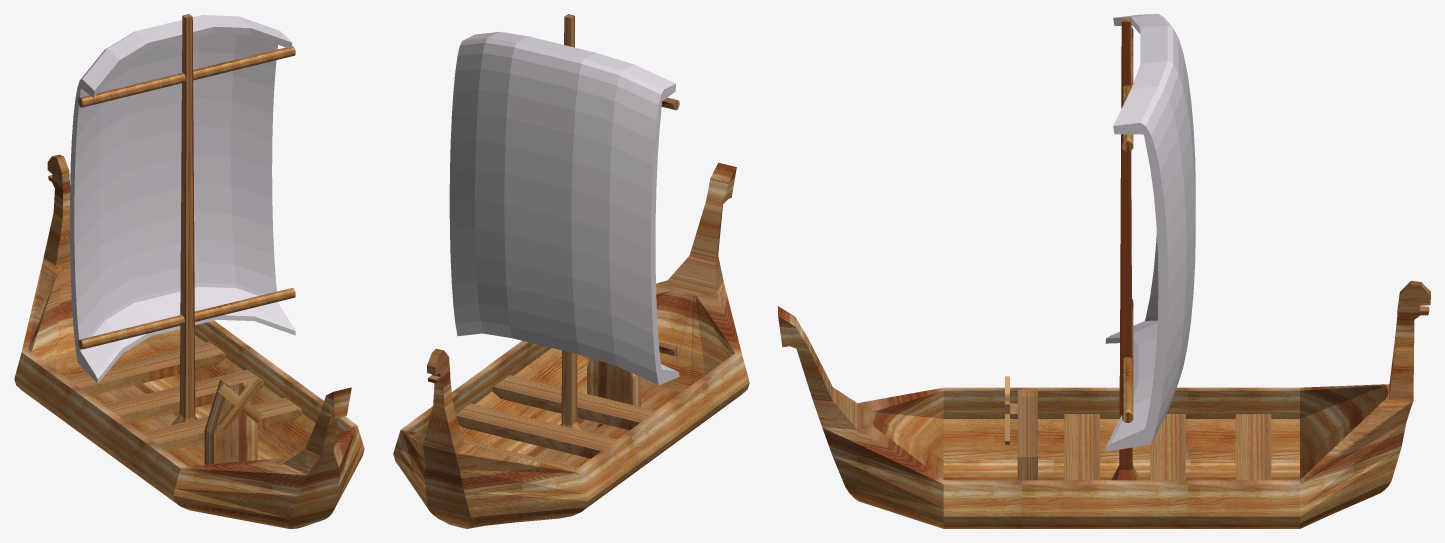
The model's file is ship.dae.
3 renders of one model, left to right at view 1: azimuth 30°, elevation 25°; view 2: azimuth 150°, elevation 25°; view 3: azimuth 270°, elevation 25°, orthographic. The views are drawn at different scales.
Parts seen in each view (by area): view 1: Cylinder.001, Cylinder, Cube.003, Cube.002, Cube.001, Cube; view 2: Cylinder.001, Cylinder, Cube.001, Cube, Cube.003, Cube.002; view 3: Cylinder, Cylinder.001, Cube.002, Cube, Cube.003, Cube.001.
Boxes of the visible parts, left/top/right/bottom form: Cylinder.001: left=69, top=15, right=295, bottom=383; Cylinder: left=14, top=14, right=364, bottom=528; Cube.003: left=204, top=376, right=263, bottom=464; Cube.002: left=65, top=341, right=226, bottom=395; Cube.001: left=103, top=369, right=264, bottom=423; Cube: left=142, top=397, right=302, bottom=451; Cylinder.001: left=449, top=32, right=679, bottom=385; Cylinder: left=393, top=14, right=749, bottom=528; Cube.001: left=456, top=403, right=616, bottom=458; Cube: left=492, top=375, right=655, bottom=430; Cube.003: left=587, top=358, right=641, bottom=406; Cube.002: left=463, top=439, right=578, bottom=471; Cylinder: left=778, top=18, right=1430, bottom=528; Cylinder.001: left=1105, top=14, right=1195, bottom=451; Cube.002: left=1235, top=414, right=1271, bottom=480; Cube: left=1064, top=414, right=1099, bottom=480; Cube.003: left=1005, top=376, right=1037, bottom=480; Cube.001: left=1150, top=414, right=1185, bottom=480.
Bounding box in the file's own units: 9.64 × 22.87 × 18.64.
5 materials, 4 textured.
